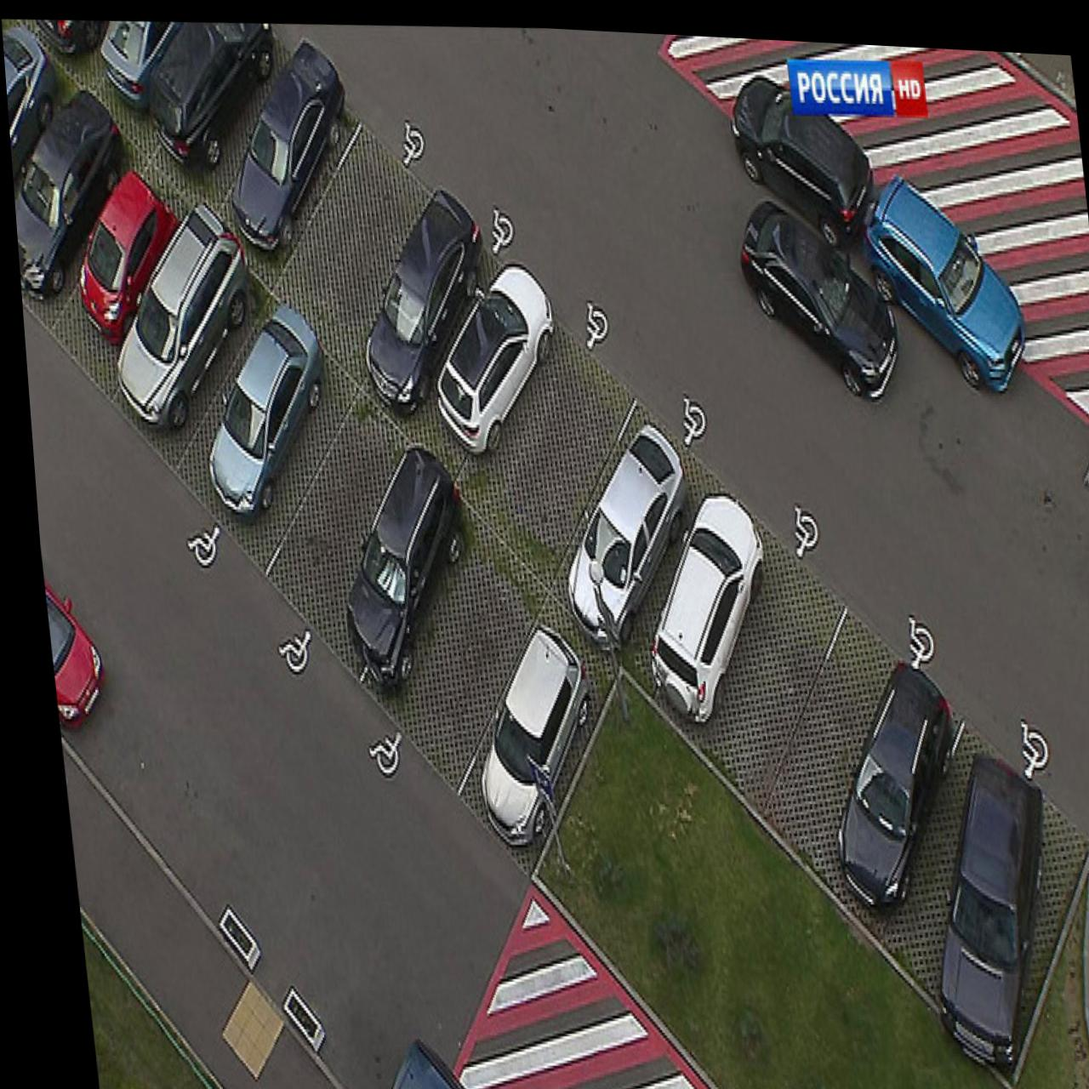cars: (875, 715, 1089, 1057), (761, 619, 1001, 893), (545, 392, 764, 649), (354, 505, 545, 794), (644, 499, 854, 760), (367, 198, 551, 471), (255, 405, 430, 673), (163, 321, 345, 577), (457, 621, 622, 875), (457, 294, 633, 531), (204, 45, 369, 257), (101, 244, 260, 453), (31, 183, 181, 395), (6, 87, 120, 283), (133, 17, 279, 167)
empty: (283, 110, 444, 367)
